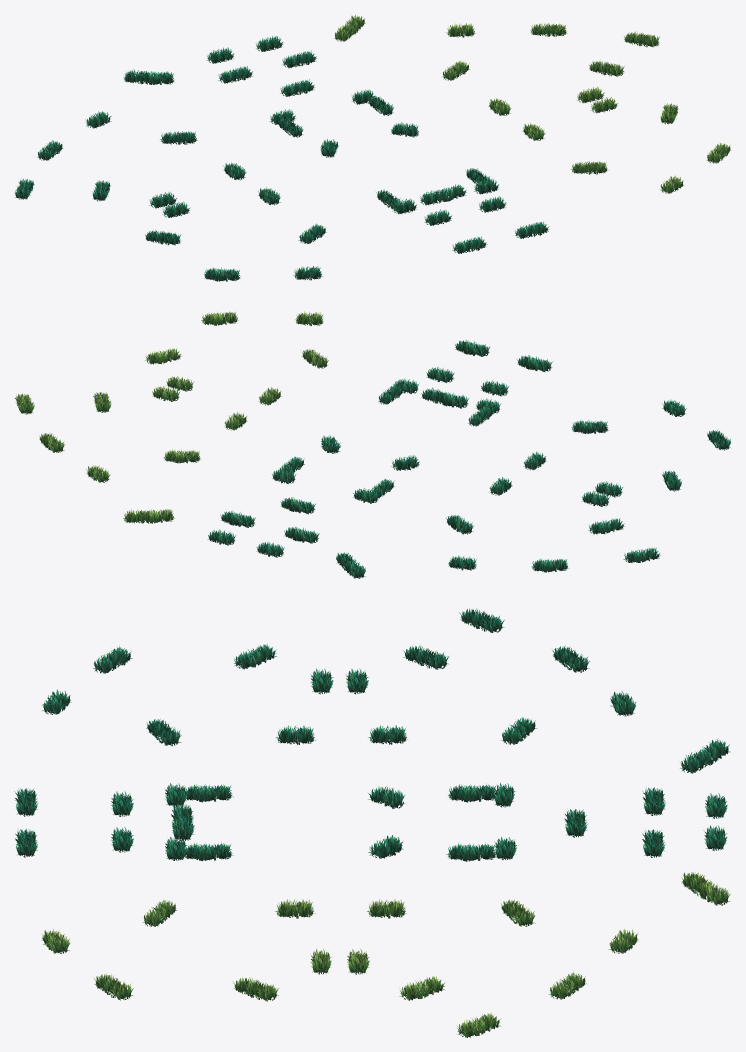
File: pref_SightBlockerGrasses_beta_01_lv2.fbx
3 views of the same model, one above another, from view 1: azimuth 30°, elevation 25°; view 2: azimuth 150°, elevation 25°; view 3: azimuth 270°, elevation 25° (orthographic). The views are drawn at different scales.
Parts seen in each view (by area): view 1: pref_sm_beach_techgrass_alpha_01_lv2 (×2), pref_sm_beach_techgrass_alpha_yellow01_lv2; view 2: pref_sm_beach_techgrass_alpha_01_lv2 (×2), pref_sm_beach_techgrass_alpha_yellow01_lv2; view 3: pref_sm_beach_techgrass_alpha_03_lv2 (×4), pref_sm_beach_techgrass_alpha_01_lv2 (×2), pref_sm_beach_techgrass_alpha_yellow01_lv2.
Boxes of the visible parts, x1,y1,x2,y2 form: pref_sm_beach_techgrass_alpha_01_lv2 (×2): [123, 69, 466, 205]; pref_sm_beach_techgrass_alpha_yellow01_lv2: [334, 15, 365, 41]; pref_sm_beach_techgrass_alpha_01_lv2 (×2): [336, 387, 469, 578]; pref_sm_beach_techgrass_alpha_yellow01_lv2: [123, 509, 175, 523]; pref_sm_beach_techgrass_alpha_03_lv2 (×4): [184, 783, 496, 861]; pref_sm_beach_techgrass_alpha_01_lv2 (×2): [171, 739, 730, 841]; pref_sm_beach_techgrass_alpha_yellow01_lv2: [681, 872, 730, 905].
Size of the model in its own units: 116 by 2.15 by 83.25.
